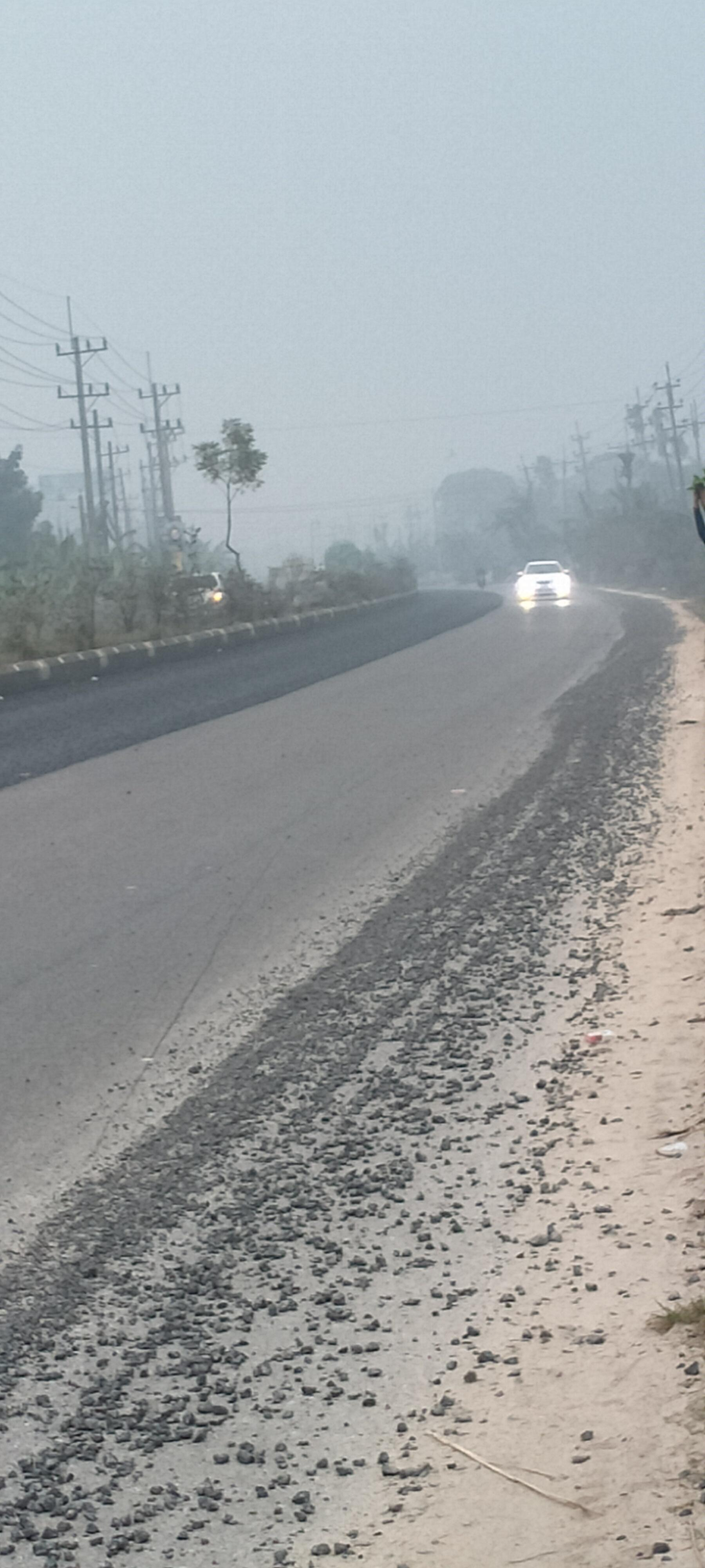Car: (509, 552, 576, 608)
